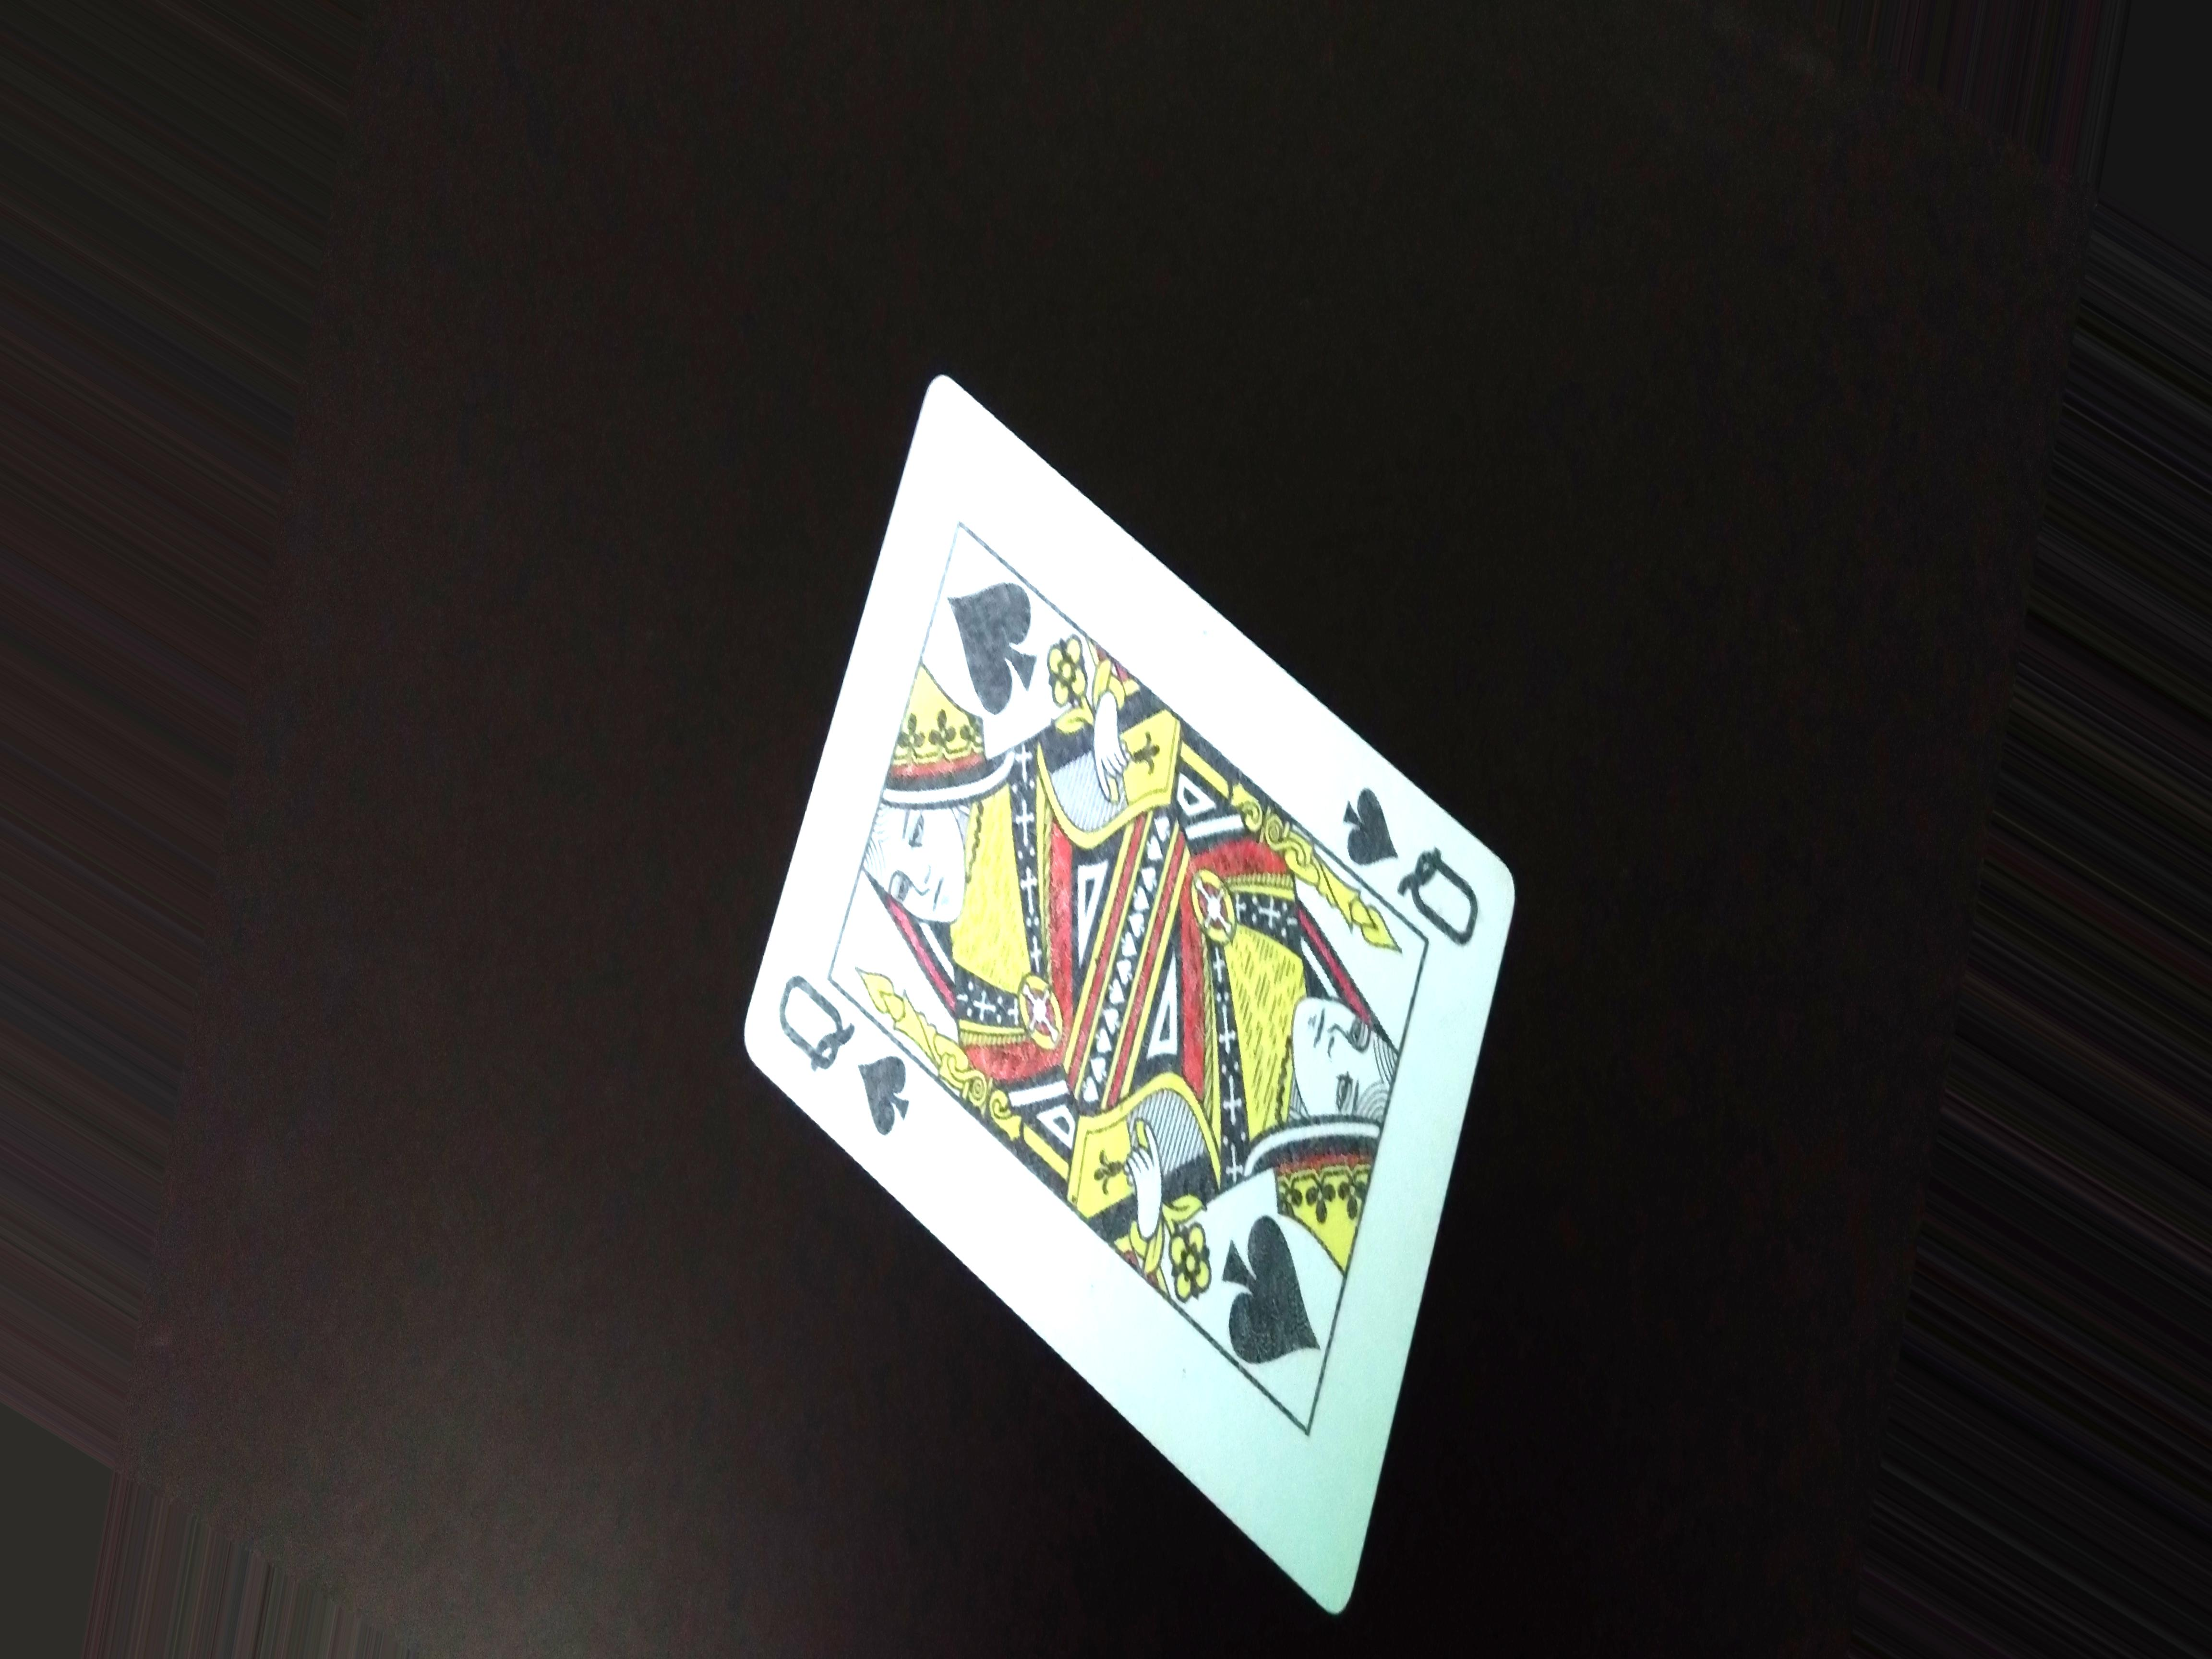QS: (777, 953, 921, 1134)
